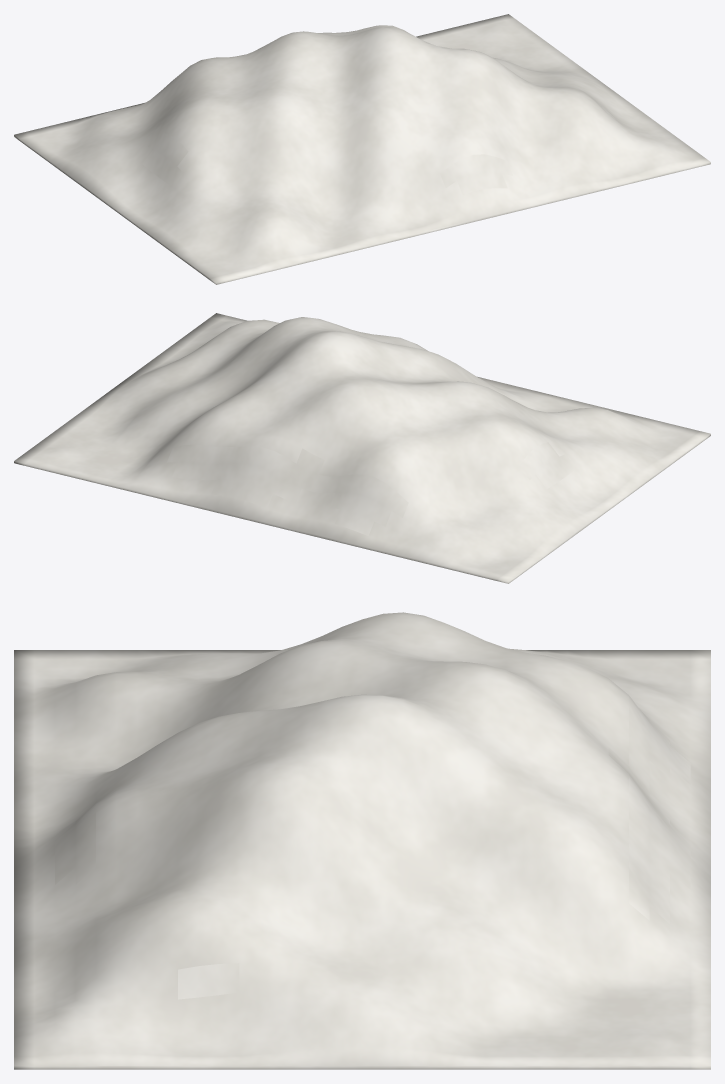
File: PRP_Blanket_Crumpled.fbx
3 renders of one model, top to bottom at view 1: azimuth 30°, elevation 25°; view 2: azimuth 150°, elevation 25°; view 3: azimuth 270°, elevation 25°, orthographic. The views are drawn at different scales.
Visible parts, largest first — view 1: PRP_Blanket_Crumpled; view 2: PRP_Blanket_Crumpled; view 3: PRP_Blanket_Crumpled.
Boxes of the visible parts, x1,y1,x2,y2 form: PRP_Blanket_Crumpled: [14, 14, 710, 284]; PRP_Blanket_Crumpled: [14, 313, 710, 583]; PRP_Blanket_Crumpled: [14, 612, 710, 1069].
Bounding box in the file's own units: 120 × 25.09 × 85.
